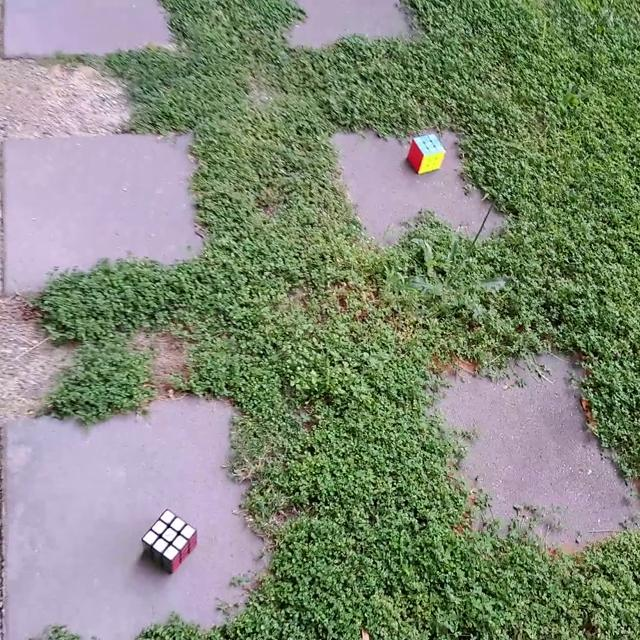rubix_cube: (139, 506, 199, 576), (404, 133, 447, 176)
